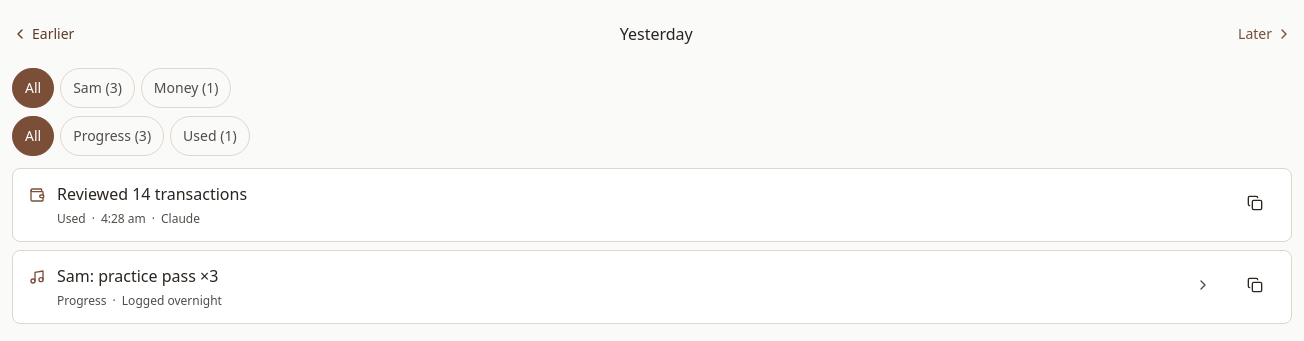
Test: filters narrow the day and persist while paging; an empty filtered day says so
The image size is (1304, 341).
Expected: the heading "Sam: practice pass ×3" is shown, [57, 265, 218, 287]
Click the button "Money (1)".
click(186, 88)  # box [141, 68, 232, 108]
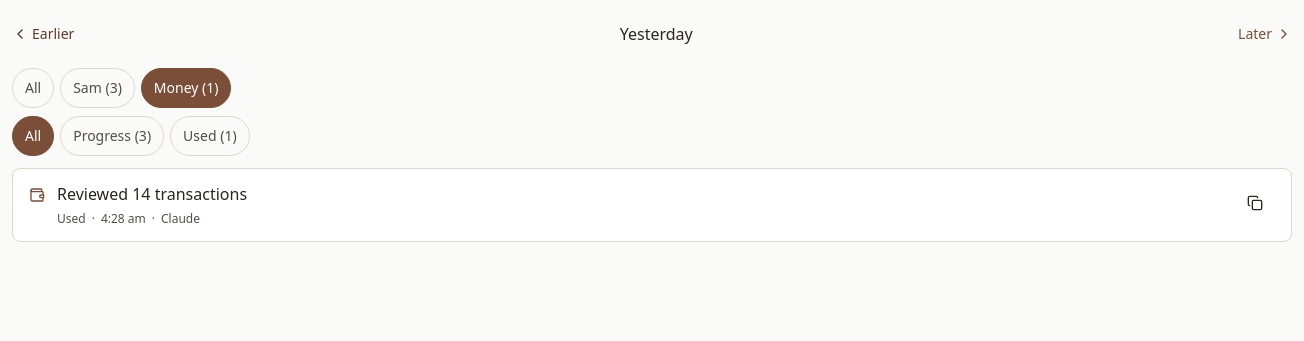
Expected: the heading "Sam: practice pass ×3" is gone
Click the button "Earlier".
click(43, 34)  # box [12, 12, 74, 56]
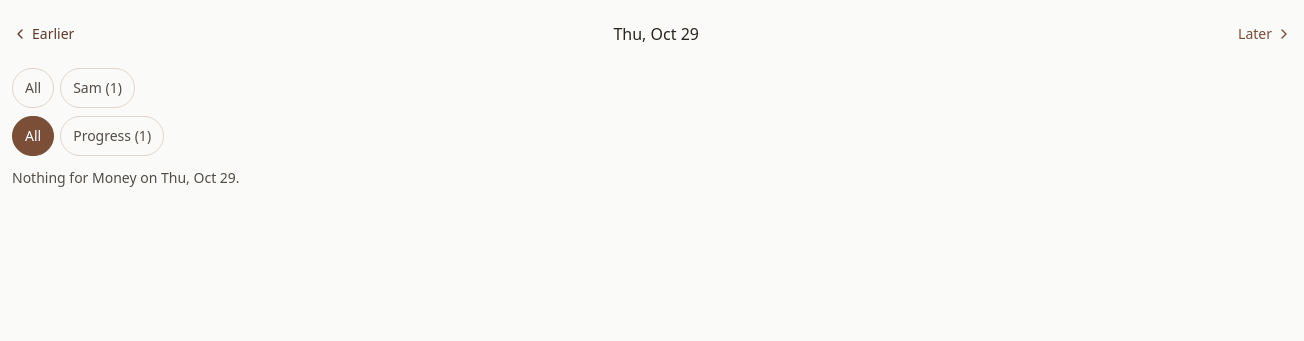
Expected: the text "Nothing for Money on Thu, Oct 29." is shown, [12, 168, 240, 187]
